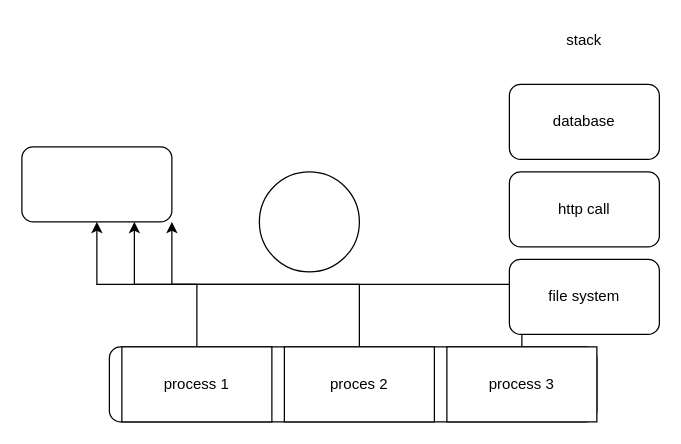
This 681x444 diagram has some shape labels left out. Here are the shapes that lost their labels. From the top down, the centre of each, then its label:
At point 96,184: "retrun call back".
At point 308,221: "event loop".
